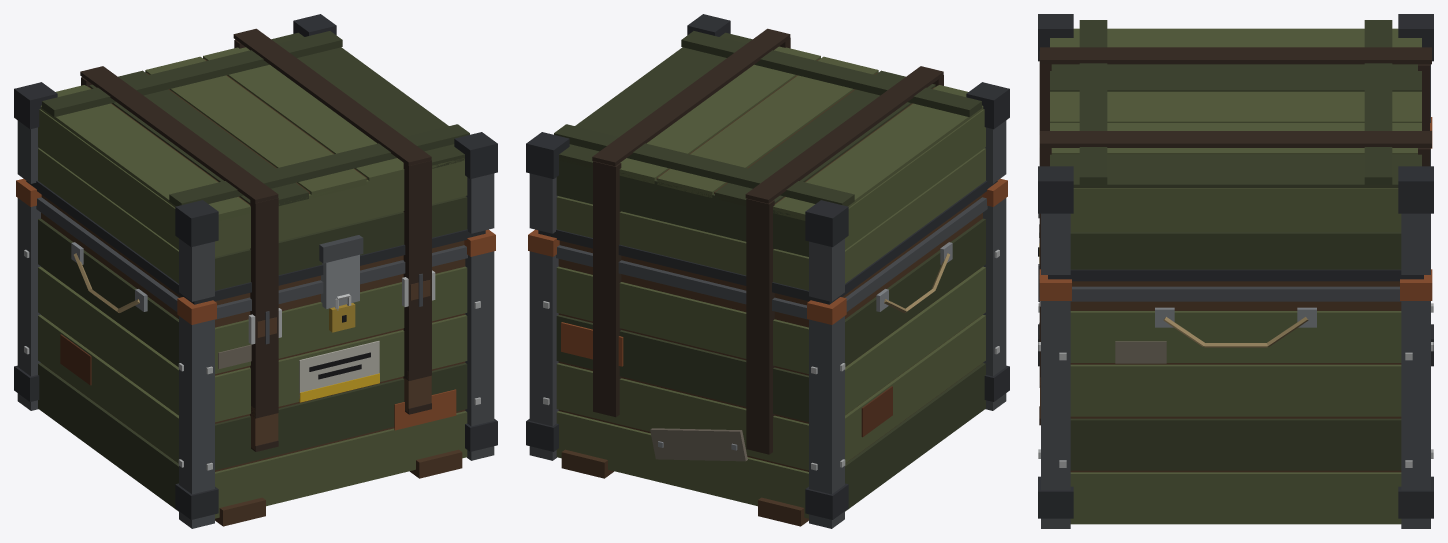
Rendered from piece_crate.fbx.
The picture shows the model from 3 angles, left to right: view 1: azimuth 30°, elevation 25°; view 2: azimuth 150°, elevation 25°; view 3: azimuth 270°, elevation 25°; orthographic projection. The views are drawn at different scales.
Parts seen in each view (by area): view 1: piece_crate; view 2: piece_crate; view 3: piece_crate.
Part boxes in pixels (<box>): piece_crate: <box>14,14,497,528</box>; piece_crate: <box>526,14,1009,528</box>; piece_crate: <box>1038,14,1433,528</box>.
Size of the model in its own units: 1 by 0.996 by 1.
